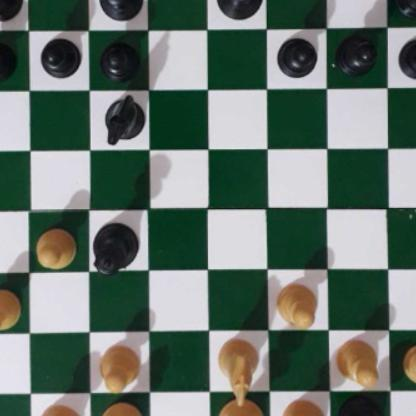black-bishop: (337, 393, 389, 416), (94, 0, 146, 22)
black-king: (213, 0, 264, 21)
black-knight: (102, 93, 146, 147)
black-pawn: (275, 33, 317, 77), (337, 32, 377, 73), (39, 36, 78, 78), (101, 37, 138, 79), (398, 34, 416, 79), (0, 38, 16, 78)
black-queen: (91, 222, 137, 274)
black-rook: (0, 0, 22, 21), (395, 0, 416, 16)
white-bishop: (280, 399, 328, 416), (98, 402, 146, 416)
white-king: (217, 395, 264, 416)
white-knight: (217, 337, 260, 408)
white-pawn: (334, 337, 380, 387), (97, 342, 141, 390), (31, 224, 77, 269), (274, 279, 317, 327), (0, 287, 21, 332), (402, 342, 416, 388)
white-rook: (31, 402, 83, 416)
